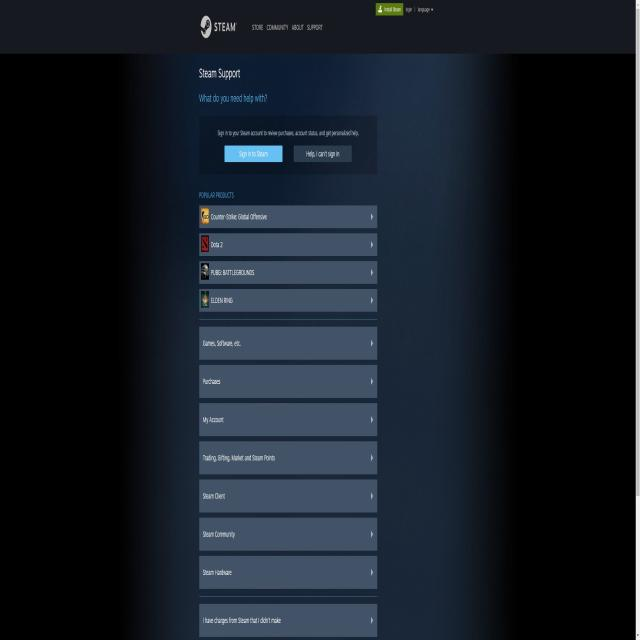menu-bar: (374, 1, 434, 17)
tab-bar: (195, 5, 329, 45)
